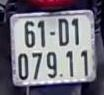0: (15, 52, 30, 82)
1: (69, 15, 81, 46), (36, 17, 47, 48), (64, 48, 75, 78), (80, 48, 89, 79)
6: (21, 18, 36, 48)
7: (30, 48, 43, 80)
9: (44, 48, 58, 77)
D: (56, 14, 70, 48)
